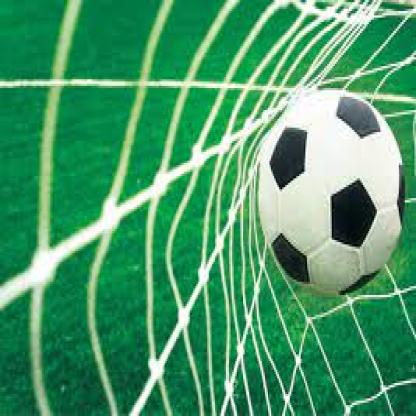ball: (255, 84, 407, 300)
